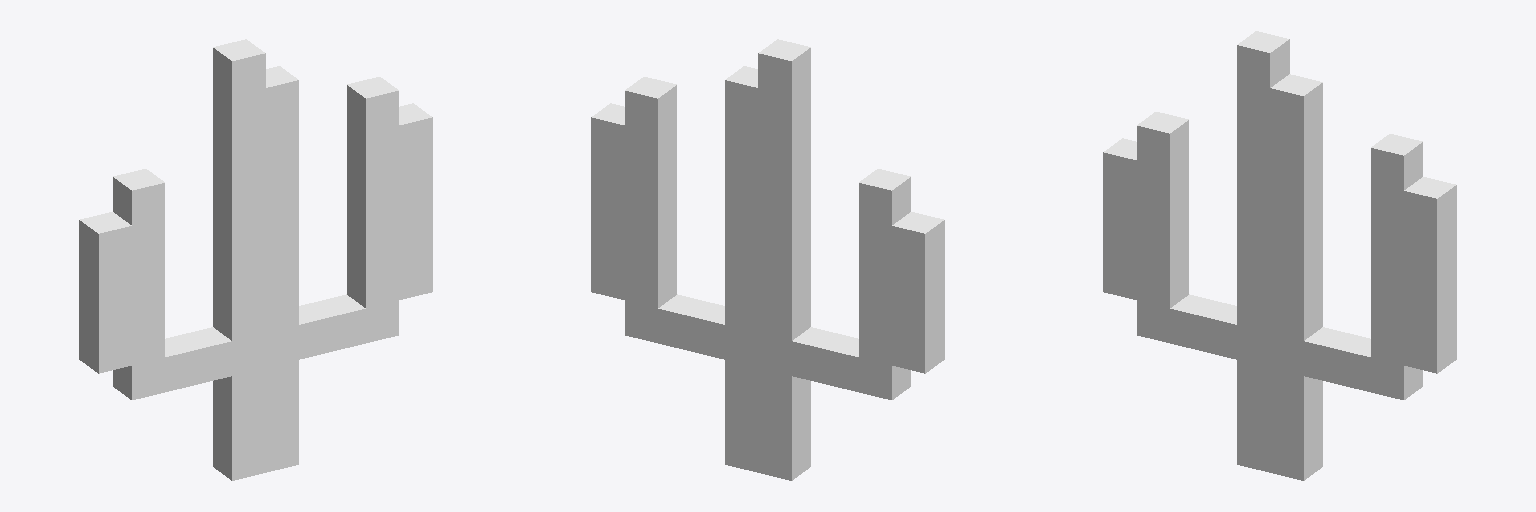
Rendered from cactus-small.obj.
The picture shows the model from 3 angles: view 1: azimuth 30°, elevation 25°; view 2: azimuth 150°, elevation 25°; view 3: azimuth 330°, elevation 25°; orthographic projection.
Size of the model in its own units: 10 by 12 by 1.